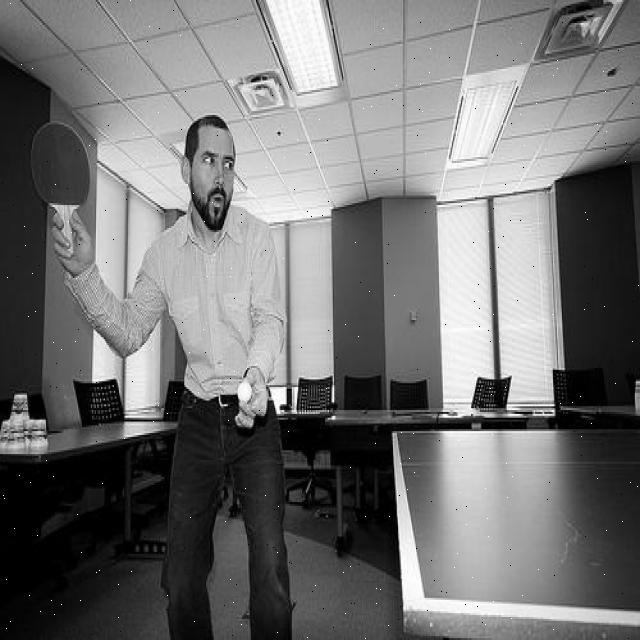ping-pong-ball: (238, 381, 252, 402)
